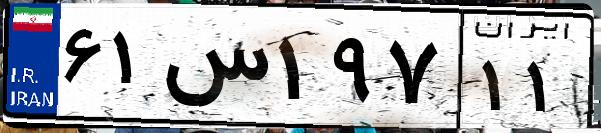1: (270, 28, 330, 110), (475, 38, 525, 113), (525, 38, 570, 115), (110, 28, 158, 98)
6: (57, 26, 110, 100)
7: (385, 28, 445, 110)
9: (330, 28, 385, 110)
س: (158, 20, 270, 120)
